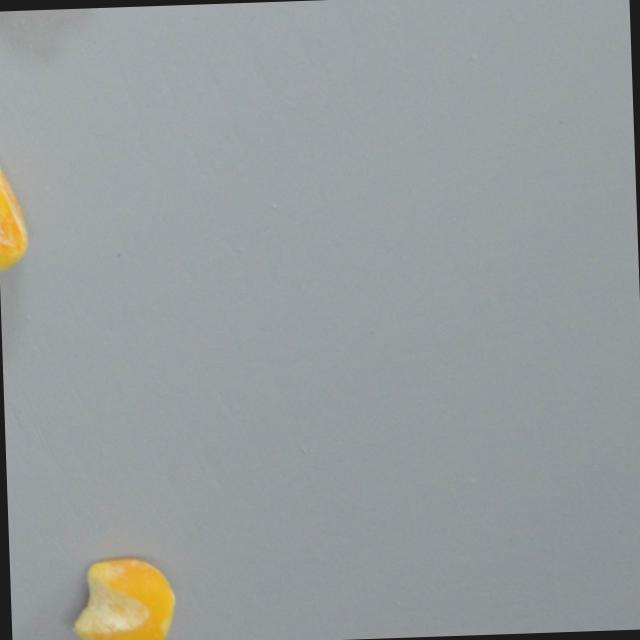pelicula: (69, 556, 176, 640), (0, 147, 33, 279)
